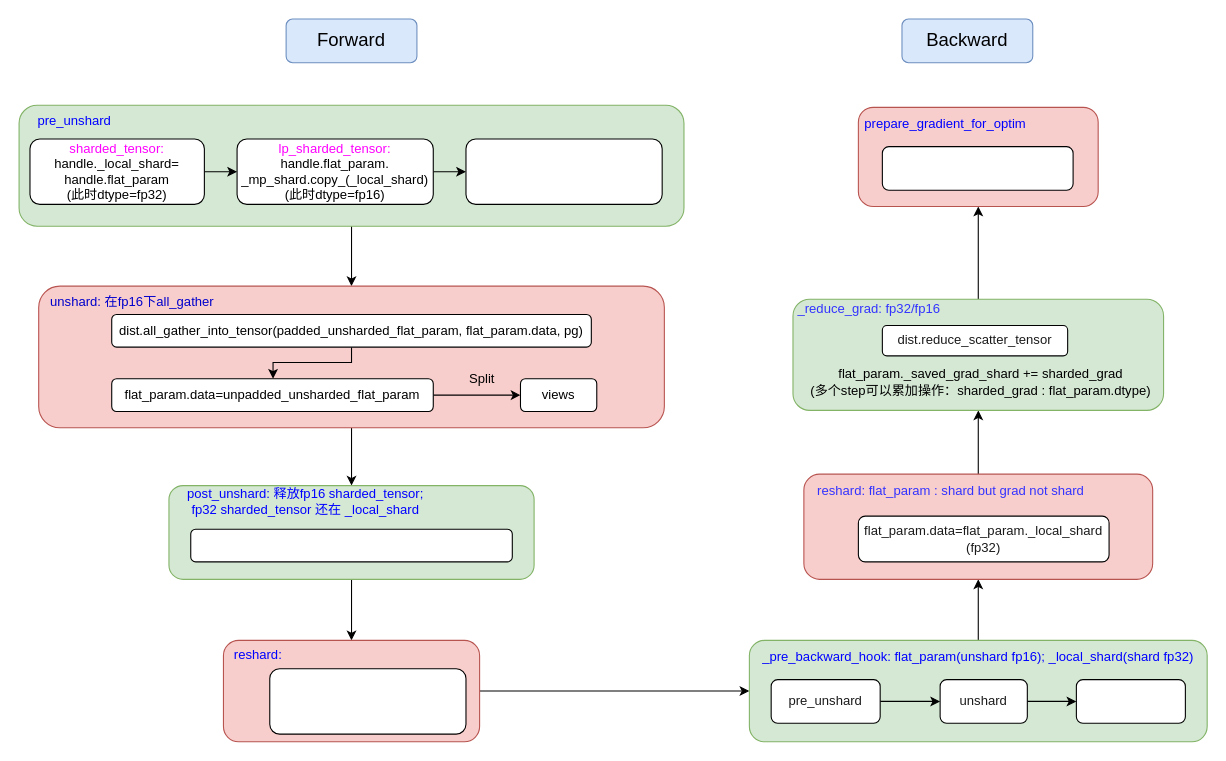
Some shapes in this 1226 by 761 pixel diagram are drawn without their labels. The centre of each missing label's shape, as x and y in pixels:
_free_storage(self.flat_param._mp_shard): point 351,545
flat_param.grad = flat_param._saved_grad_shard: point 977,168
flat_pram.data = flat_param._local_shard (fp32): point 367,701
flat_pram.data = flat_param._mp_shard (fp16): point 563,171
post_unshard: point 1130,701
